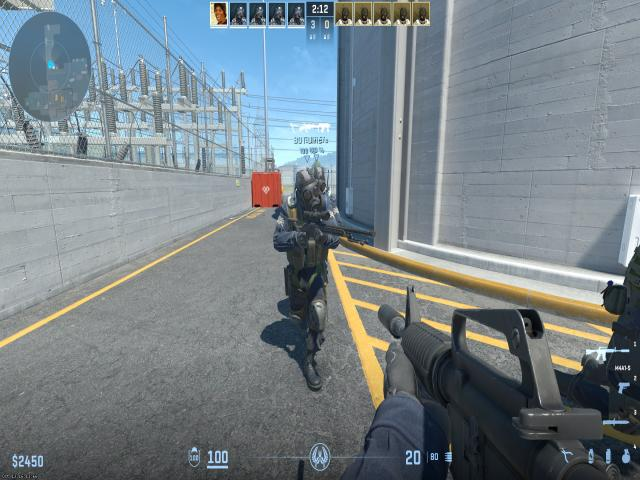CT: (589, 221, 640, 449), (284, 174, 320, 376), (313, 165, 335, 334)
CT-Head: (294, 170, 316, 210), (313, 168, 326, 196)
